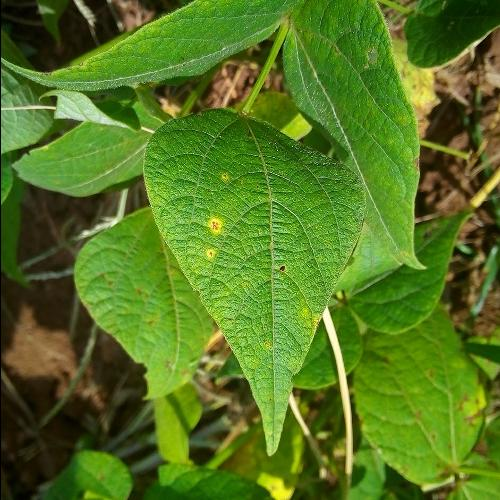hawar: (194, 121, 280, 281)
